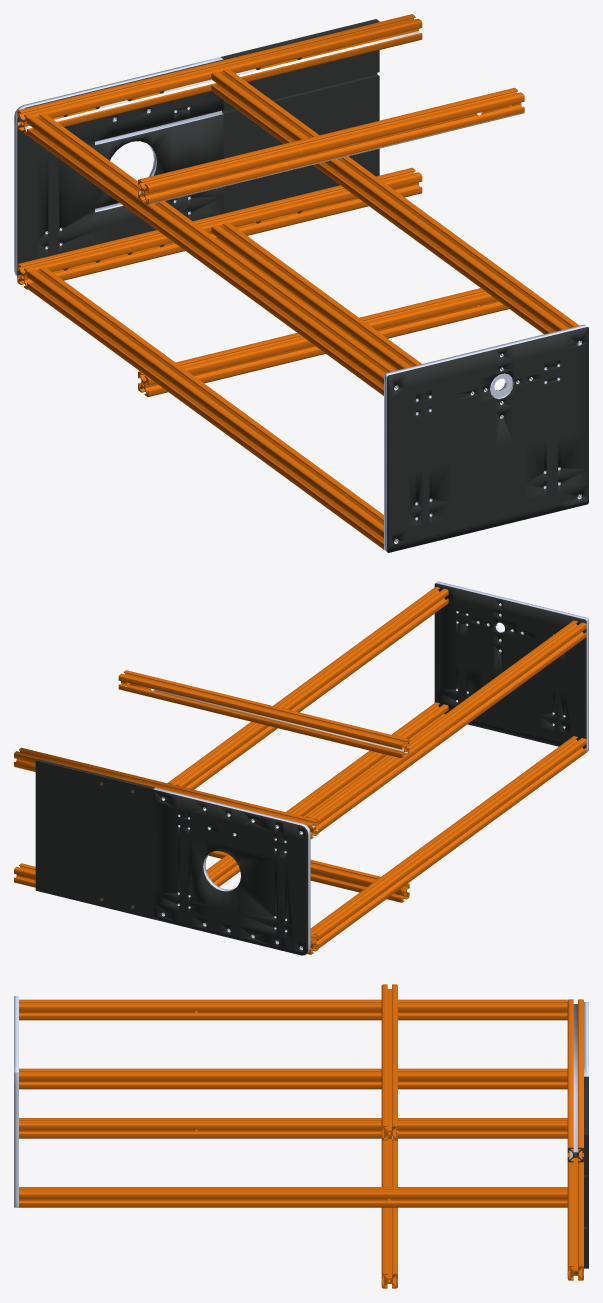
File: drill.glb
The picture shows the model from 3 angles, top to bottom: view 1: azimuth 30°, elevation 25°; view 2: azimuth 150°, elevation 25°; view 3: azimuth 270°, elevation 25°; orthographic projection. The views are drawn at different scales.
Visible parts, largest first — view 1: body8276332; view 2: body8276332; view 3: body8276332.
Boxes of the visible parts, x1,y1,x2,y2 form: body8276332: (14,14,588,552); body8276332: (14,581,588,955); body8276332: (14,984,588,1288).
Bounding box in the file's own units: 0.43 × 0.22 × 0.7045.
